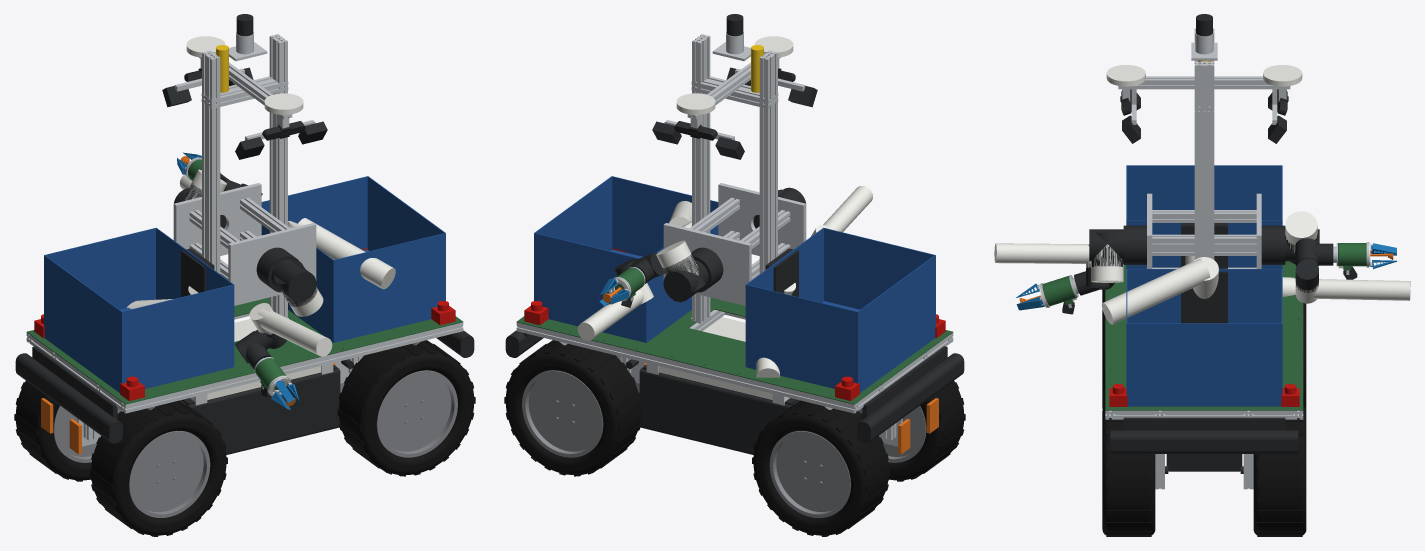
File: renders_src_harvester.glb
3 renders of one model, left to right at view 1: azimuth 30°, elevation 25°; view 2: azimuth 150°, elevation 25°; view 3: azimuth 270°, elevation 25°, orthographic.
Parts seen in each view (by area): view 1: totes, tyre_fr, tyre_rr, battery_keel, mast_posts, arm_mount_plates, hub_motor_fr, hub_motor_rr, deck_plate, bumpers, deck_frame, mast_beams (+19 smaller); view 2: totes, tyre_fl, tyre_rl, battery_keel, mast_posts, deck_plate, arm_mount_plates, hub_motor_fl, hub_motor_rl, bumpers, deck_frame, mast_beams (+18 smaller); view 3: totes, bumpers, deck_plate, tyre_fl, tyre_fr, mast_beams, left_upper_arm, mast_posts, left_forearm, arm_ctrl, right_forearm, deck_frame (+16 smaller).
Boxes of the visible parts, left/top/right/bottom form: totes: left=44, top=176, right=445, bottom=392; tyre_fr: left=337, top=340, right=475, bottom=476; tyre_rr: left=90, top=400, right=227, bottom=536; battery_keel: left=180, top=364, right=340, bottom=454; mast_posts: left=202, top=34, right=287, bottom=318; arm_mount_plates: left=173, top=183, right=316, bottom=305; hub_motor_fr: left=376, top=370, right=457, bottom=457; hub_motor_rr: left=129, top=431, right=210, bottom=517; deck_plate: left=27, top=297, right=463, bottom=404; bumpers: left=15, top=330, right=474, bottom=443; deck_frame: left=26, top=313, right=463, bottom=413; mast_beams: left=189, top=57, right=292, bottom=279; totes: left=534, top=176, right=935, bottom=392; tyre_fl: left=504, top=340, right=642, bottom=476; tyre_rl: left=752, top=400, right=889, bottom=536; battery_keel: left=639, top=364, right=799, bottom=454; mast_posts: left=692, top=34, right=777, bottom=323; deck_plate: left=516, top=297, right=952, bottom=404; arm_mount_plates: left=663, top=183, right=806, bottom=305; hub_motor_fl: left=522, top=370, right=603, bottom=457; hub_motor_rl: left=769, top=431, right=850, bottom=517; bumpers: left=505, top=330, right=964, bottom=443; deck_frame: left=516, top=309, right=953, bottom=413; mast_beams: left=687, top=57, right=790, bottom=279; totes: left=1126, top=165, right=1282, bottom=406; bumpers: left=1110, top=417, right=1298, bottom=453; deck_plate: left=1105, top=261, right=1303, bottom=410; tyre_fl: left=1253, top=405, right=1306, bottom=536; tyre_fr: left=1102, top=406, right=1155, bottom=536; mast_beams: left=1118, top=76, right=1290, bottom=268; left_upper_arm: left=1101, top=211, right=1317, bottom=324; mast_posts: left=1194, top=28, right=1214, bottom=259; left_forearm: left=1295, top=279, right=1410, bottom=303; arm_ctrl: left=1181, top=223, right=1227, bottom=323; right_forearm: left=994, top=243, right=1091, bottom=268; deck_frame: left=1105, top=302, right=1303, bottom=419.
Size of the model in its own units: 1632 by 1917 by 1597.
